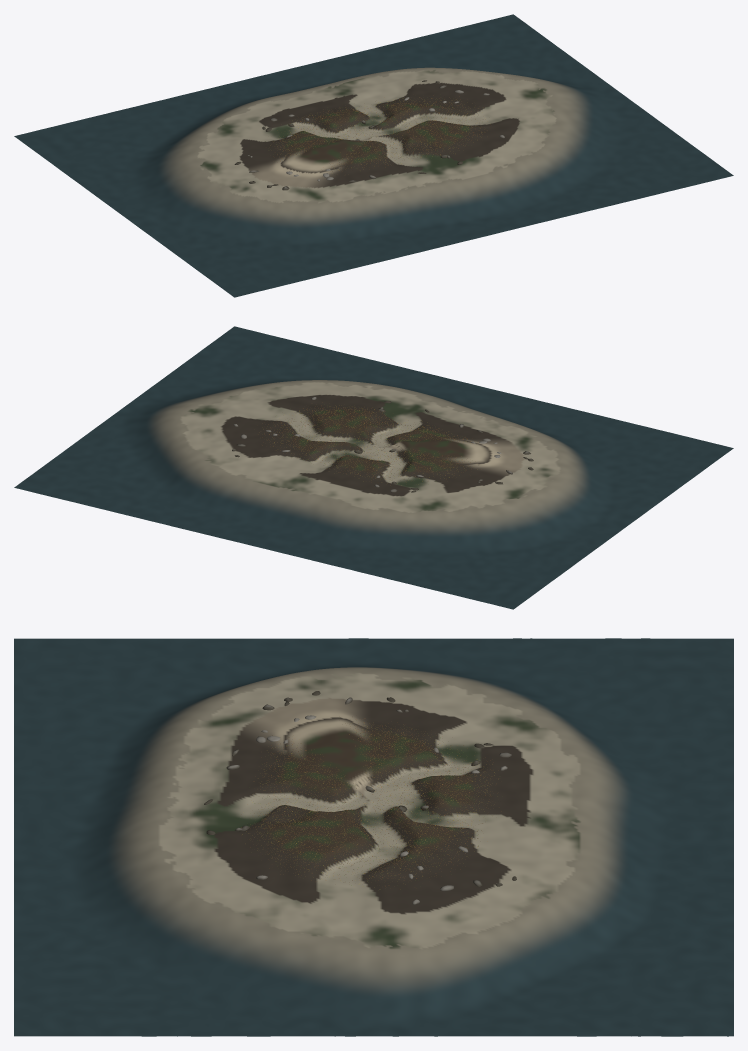
File: Atoll_Ground.fbx
3 views of the same model, one above another, from view 1: azimuth 30°, elevation 25°; view 2: azimuth 150°, elevation 25°; view 3: azimuth 270°, elevation 25° (orthographic). The views are drawn at different scales.
Visible parts, largest first — view 1: Atoll_Terrain, Atoll_LeafLitter, Atoll_Rocks; view 2: Atoll_Terrain, Atoll_LeafLitter, Atoll_Rocks; view 3: Atoll_Terrain, Atoll_LeafLitter, Atoll_Rocks.
Boxes of the visible parts, x1,y1,x2,y2 form: Atoll_Terrain: [14, 14, 733, 297]; Atoll_LeafLitter: [273, 97, 481, 171]; Atoll_Rocks: [234, 80, 504, 190]; Atoll_Terrain: [14, 326, 733, 609]; Atoll_LeafLitter: [264, 405, 472, 483]; Atoll_Rocks: [232, 397, 533, 492]; Atoll_Terrain: [14, 638, 733, 1036]; Atoll_LeafLitter: [241, 719, 494, 886]; Atoll_Rocks: [204, 691, 516, 904].
Bounding box in the file's own units: 170 × 8.78 × 130.
